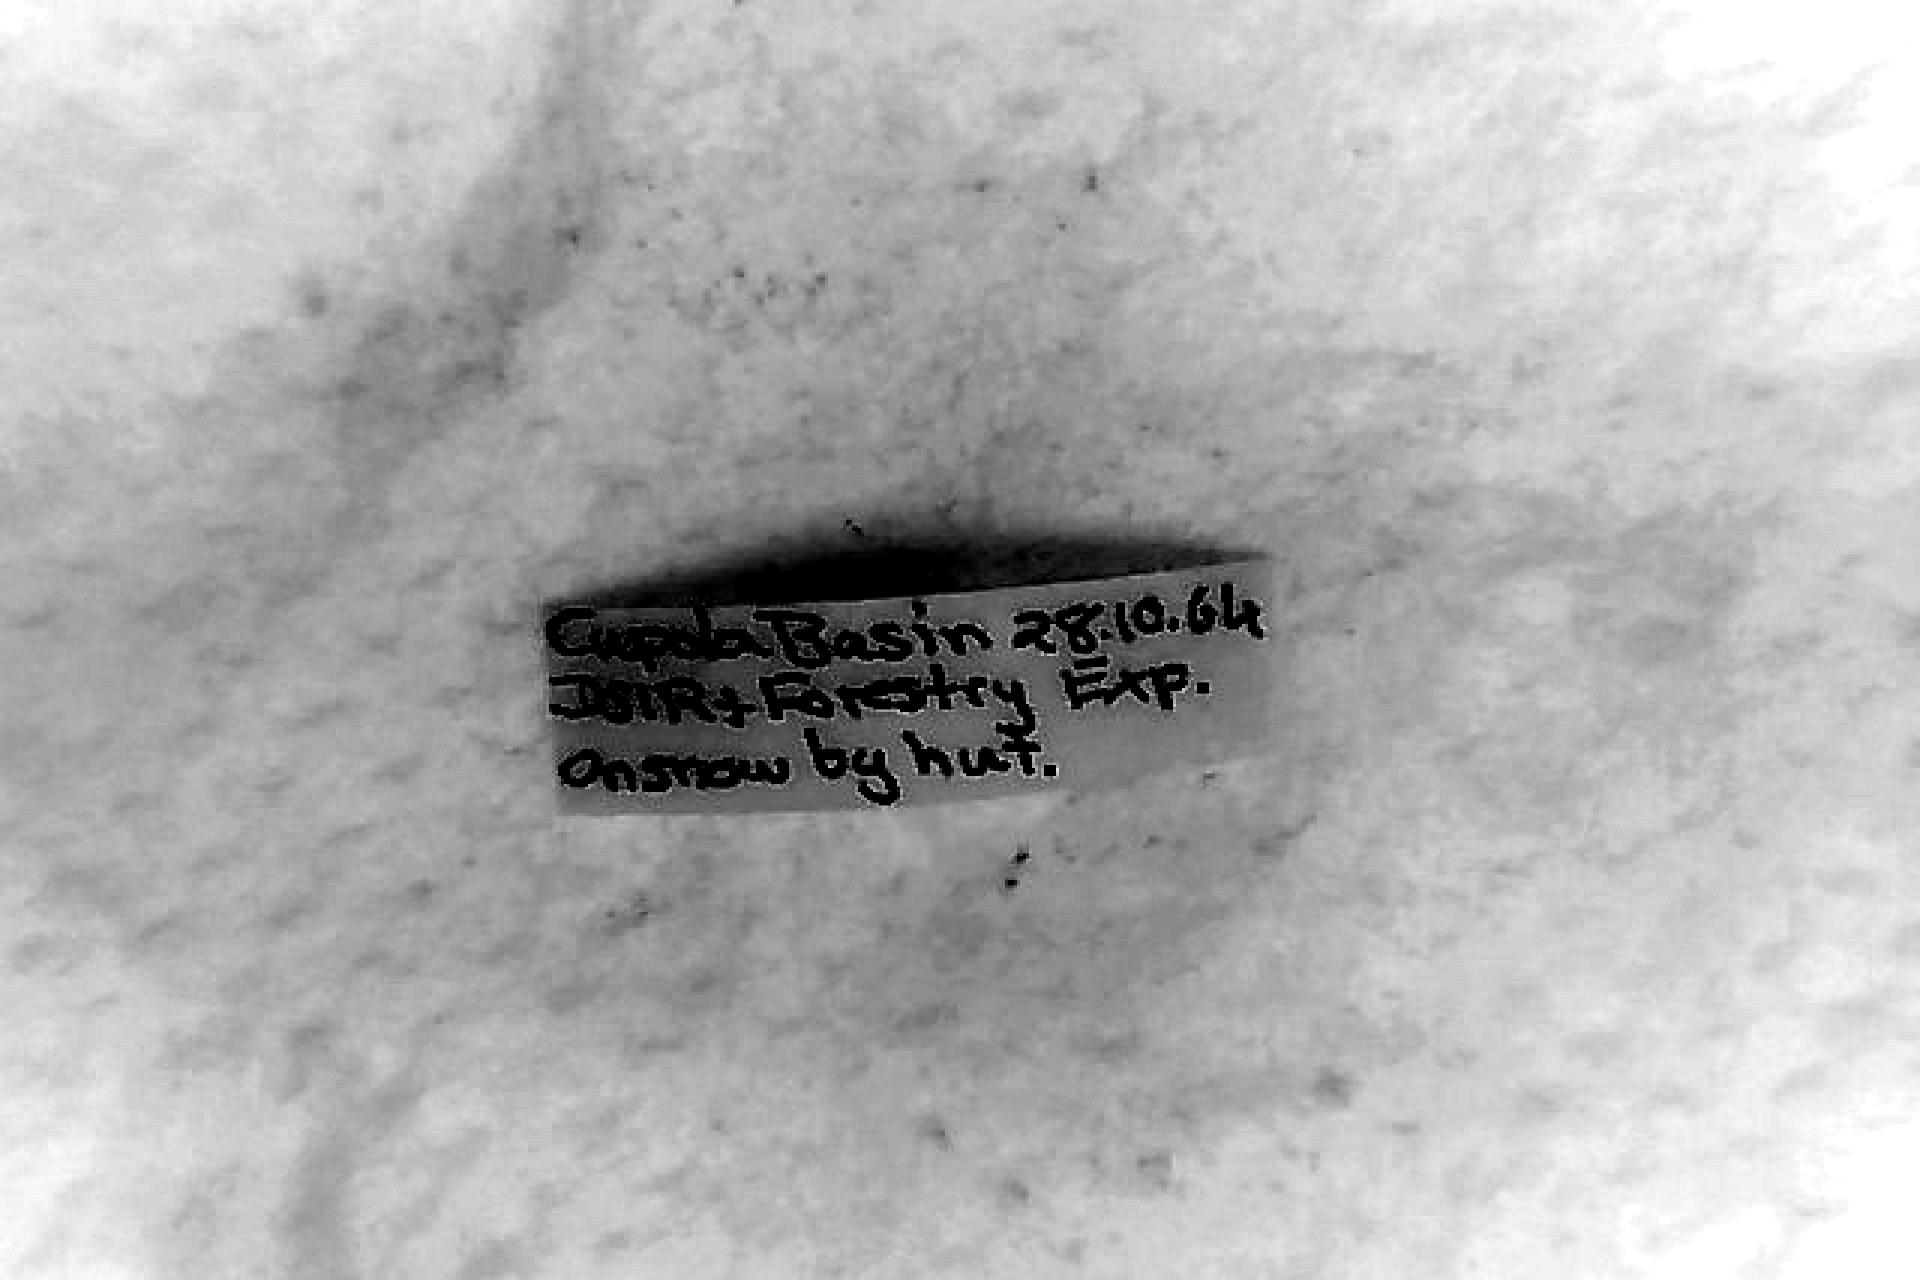hand_label: (544, 560, 1271, 811)
